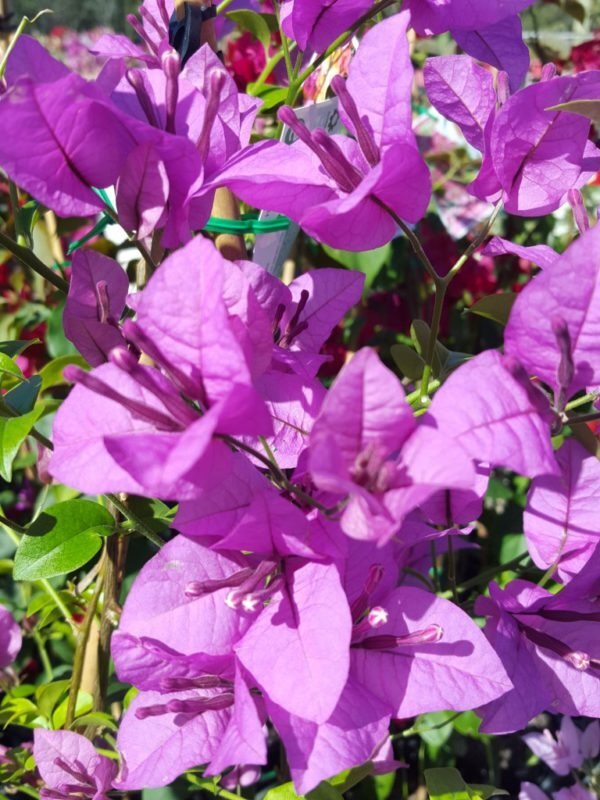bougainvillea: (424, 226, 599, 595), (123, 470, 353, 726), (206, 20, 433, 249), (45, 263, 263, 494), (309, 350, 465, 541), (87, 634, 269, 780), (111, 39, 243, 205)
